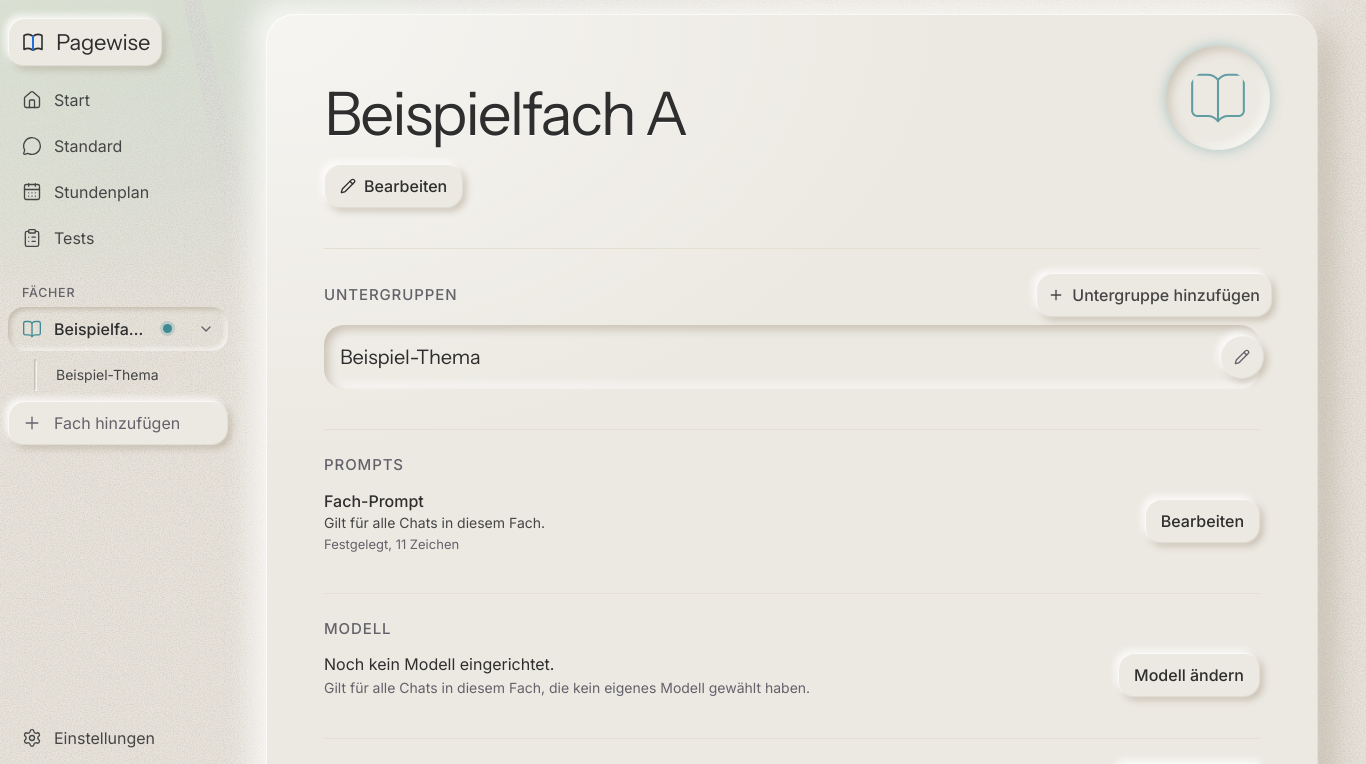
it: Prompts je Ebene › verwirft ungespeicherte Änderungen beim Schließen
Click the button with aria-label "Fach-Prompt: Bearbeiten" at (1202, 521), box 1145,499 -> 1260,543
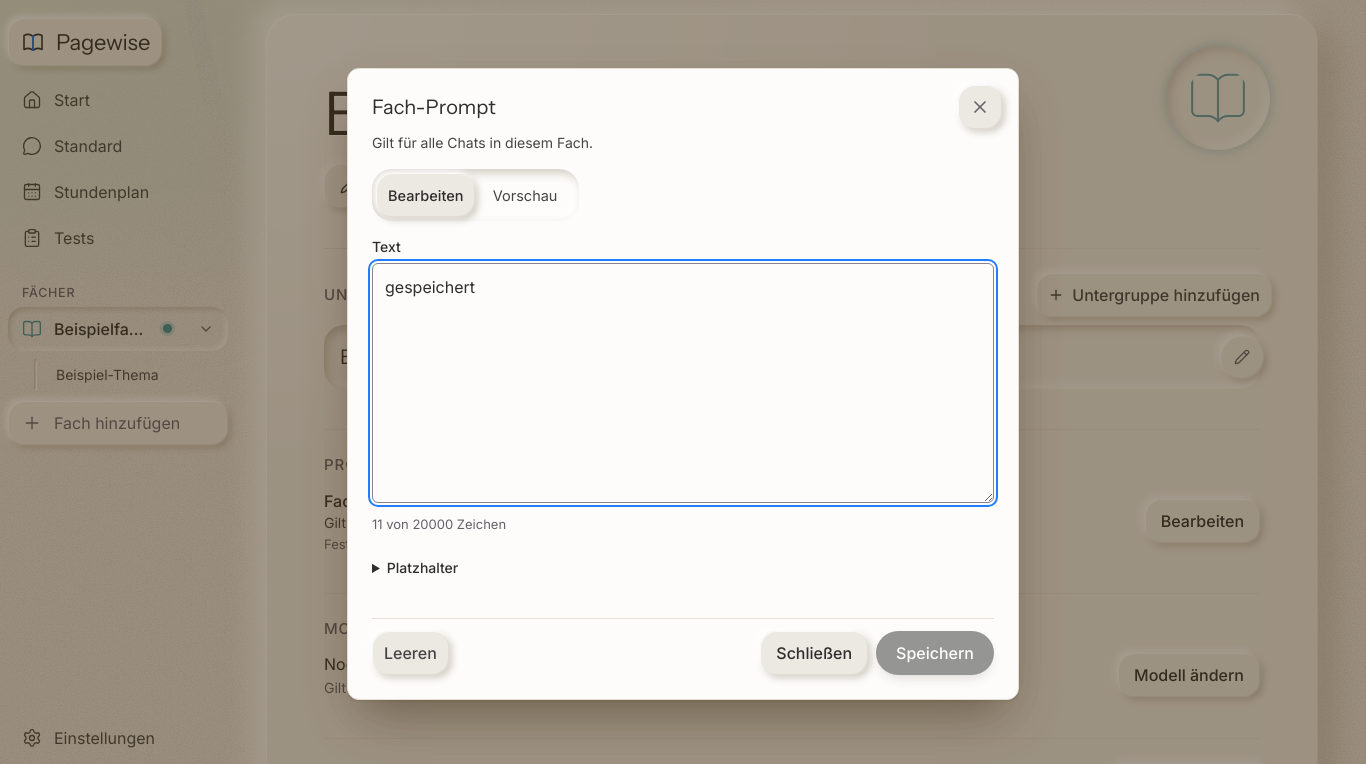
Type " und mehr" into the text box labelled "Text" at (683, 383), box 372,263 -> 994,503
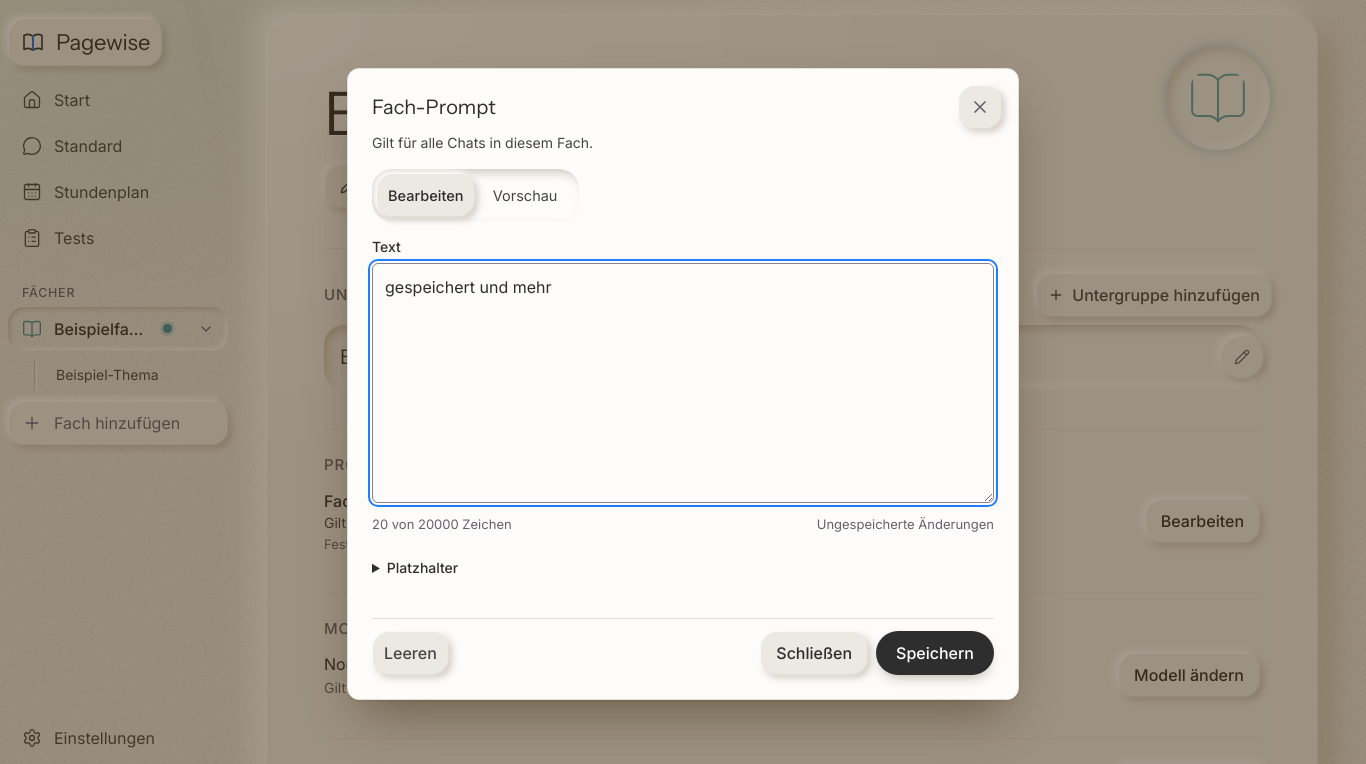
Press Escape
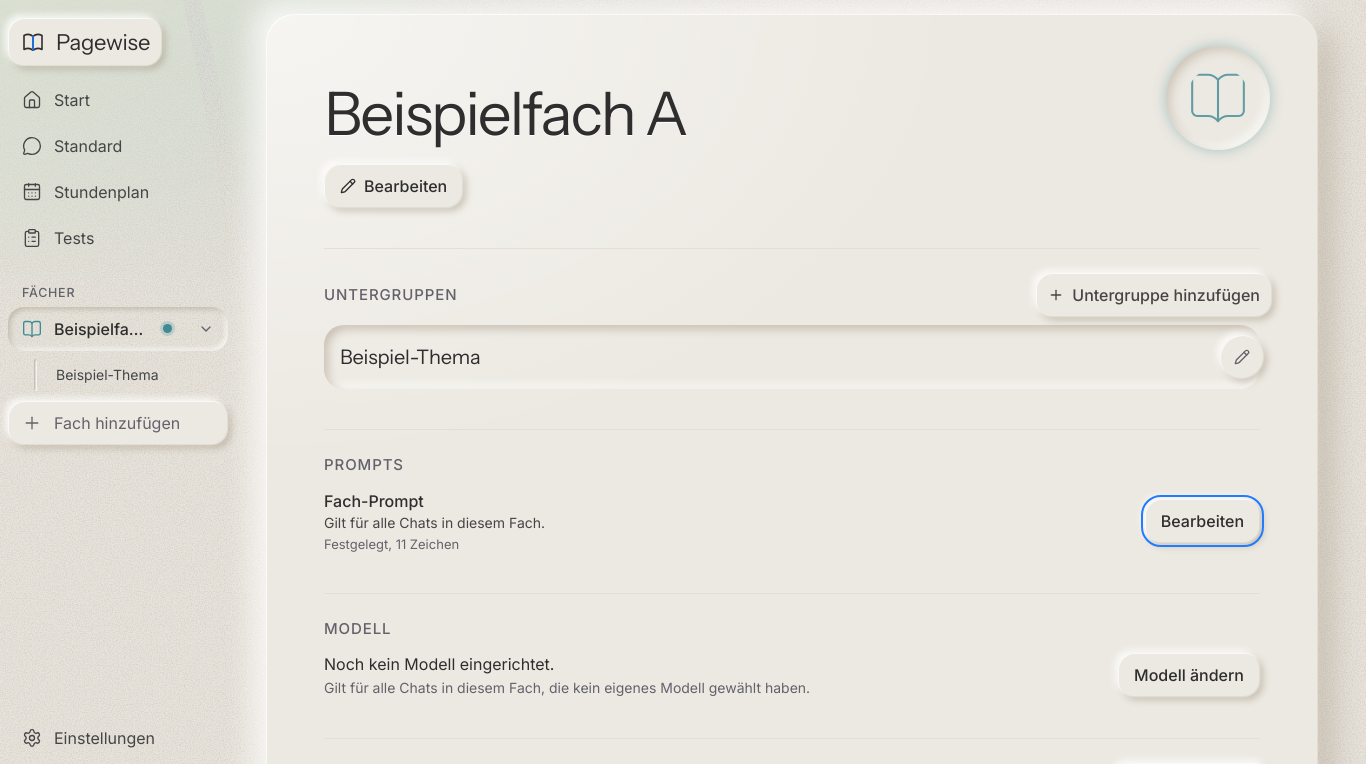
Expected: the dialog is gone
